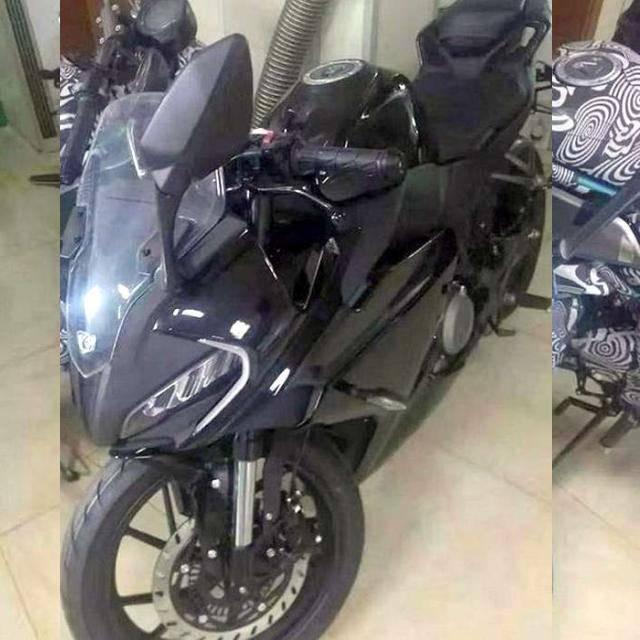motorcycle: (60, 0, 552, 640)
